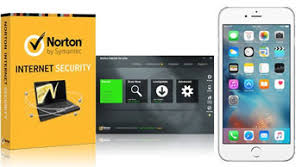iphone: (212, 1, 302, 165)
iphone5: (212, 1, 302, 166)
